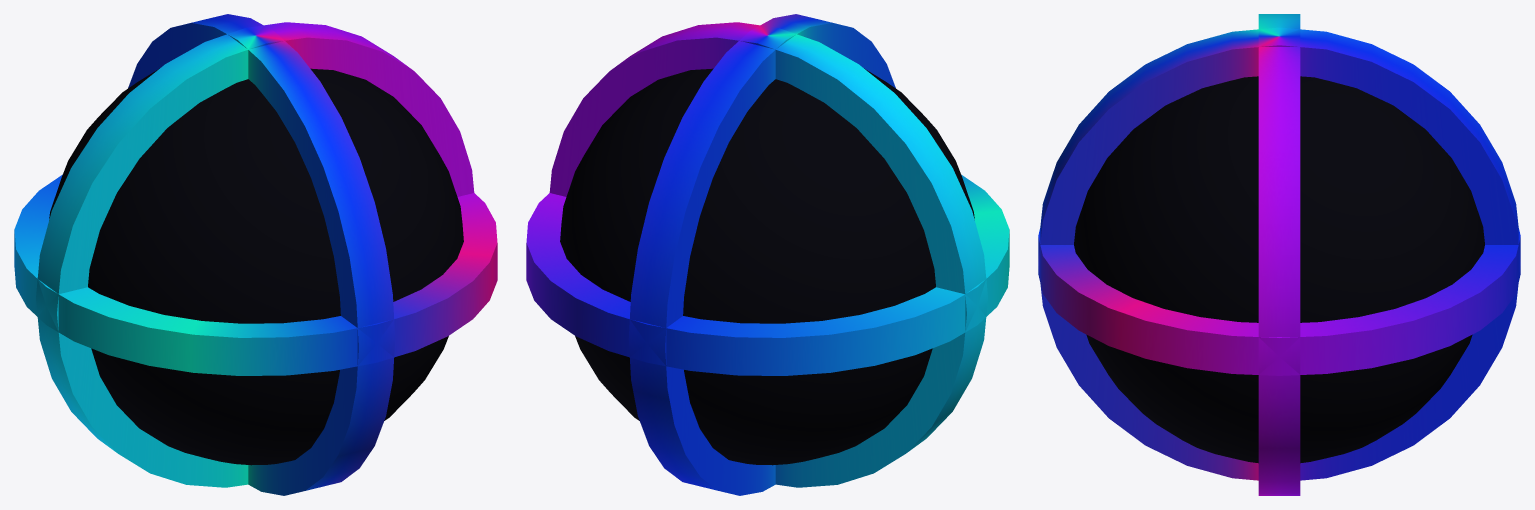
Rendered from Ball-23.dae.
3 views of the same model, side by side, from view 1: azimuth 30°, elevation 25°; view 2: azimuth 150°, elevation 25°; view 3: azimuth 270°, elevation 25° (orthographic).
Parts seen in each view (by area): view 1: Ball; view 2: Ball; view 3: Ball.
Part boxes in pixels (x1,y1,x2,y2): Ball: (14, 14, 497, 495); Ball: (526, 14, 1009, 495); Ball: (1038, 14, 1520, 495).
Size of the model in its own units: 0.046 by 0.046 by 0.046.
2 materials, 1 textured.
